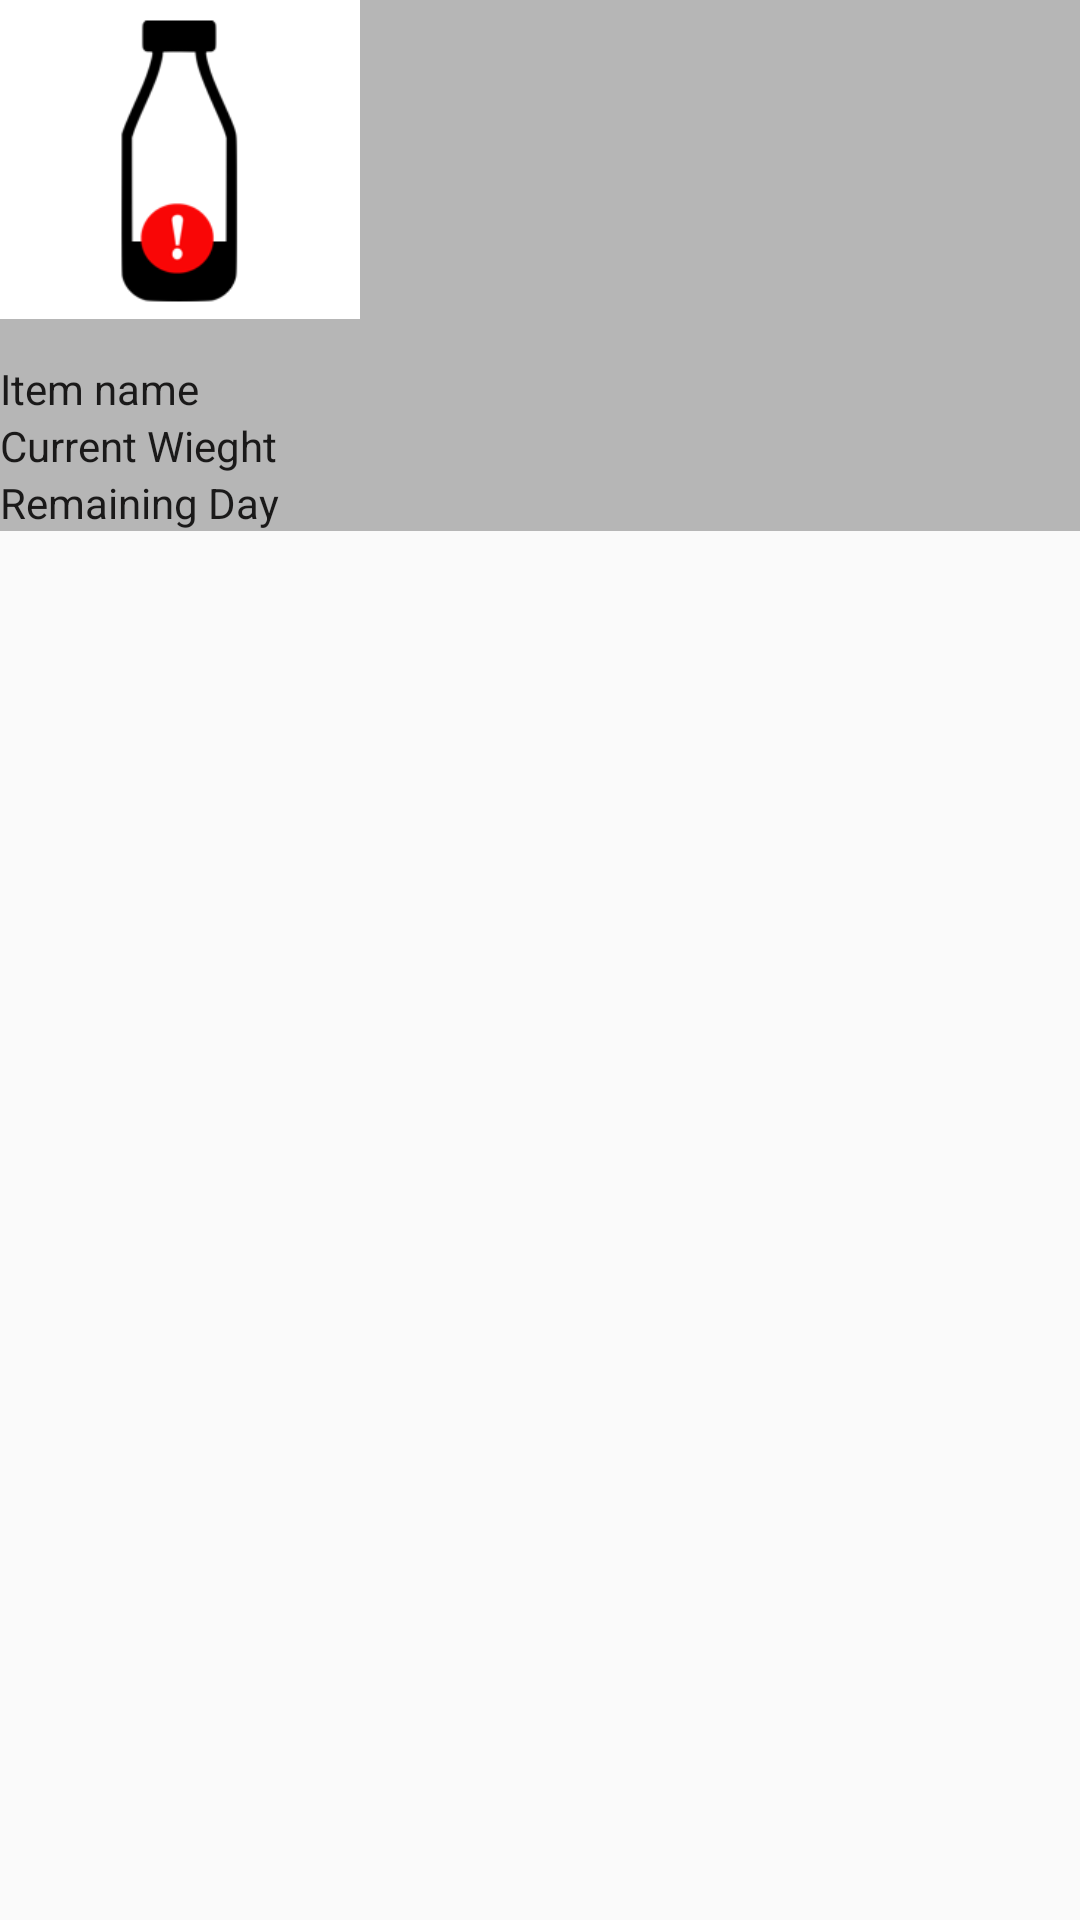

Where to tap for icons on this 1080*1920 app screen, as [x,y]:
alerticon: [180,159]
